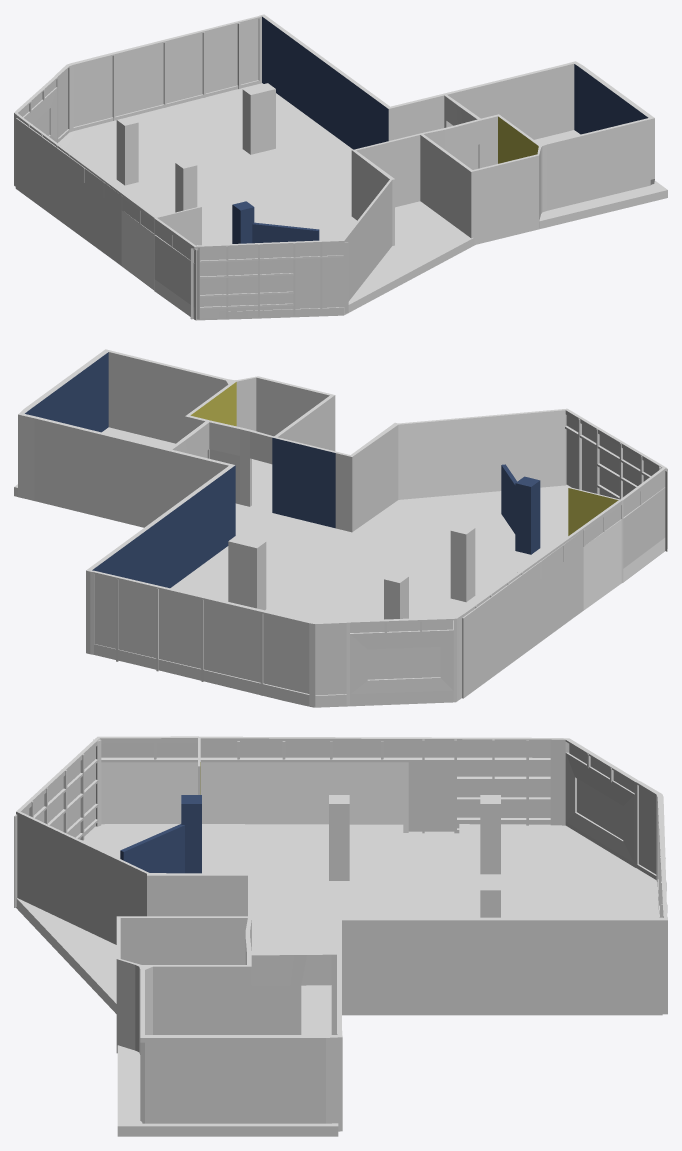
The model's file is Office.fbx.
The picture shows the model from 3 angles, top to bottom: view 1: azimuth 30°, elevation 25°; view 2: azimuth 150°, elevation 25°; view 3: azimuth 270°, elevation 25°; orthographic projection. The views are drawn at different scales.
Visible parts, largest first — view 1: OfficeWalls, Cube, FrontWindow, FrontWindow.003, FrontWindow.002, Pillar.002, Pillar.003, PrivacyWall, Pillar.000, Pillar.001, FrontWindow.001, Cube.001; view 2: OfficeWalls, Cube, FrontWindow, FrontWindow.002, FrontWindow.003, Cube.001, Pillar.002, FrontWindow.001, Pillar.001, Pillar.000, Pillar.003, PrivacyWall; view 3: OfficeWalls, Cube, FrontWindow.002, FrontWindow.003, Cube.001, PrivacyWall, Cube.003, Pillar.000, Pillar.003, Pillar.001, FrontWindow.001, Pillar.002.
Boxes of the visible parts, <box> form: OfficeWalls: <box>14,14,654,319</box>; Cube: <box>58,83,667,320</box>; FrontWindow: <box>73,19,258,126</box>; FrontWindow.003: <box>190,242,348,319</box>; FrontWindow.002: <box>15,118,196,320</box>; Pillar.002: <box>242,83,275,154</box>; Pillar.003: <box>116,116,138,185</box>; PrivacyWall: <box>252,222,319,243</box>; Pillar.000: <box>175,159,197,212</box>; Pillar.001: <box>232,201,254,243</box>; FrontWindow.001: <box>58,69,68,137</box>; Cube.001: <box>18,80,56,135</box>; OfficeWalls: <box>18,349,666,706</box>; Cube: <box>14,427,571,707</box>; FrontWindow: <box>94,574,309,693</box>; FrontWindow.002: <box>462,468,667,698</box>; FrontWindow.003: <box>566,415,667,551</box>; Cube.001: <box>350,620,452,679</box>; Pillar.002: <box>228,534,266,610</box>; FrontWindow.001: <box>316,624,346,695</box>; Pillar.001: <box>515,476,540,554</box>; Pillar.000: <box>450,524,475,602</box>; Pillar.003: <box>384,572,408,619</box>; PrivacyWall: <box>501,464,517,533</box>; OfficeWalls: <box>16,736,667,1131</box>; Cube: <box>16,824,662,1136</box>; FrontWindow.002: <box>101,742,550,831</box>; FrontWindow.003: <box>14,747,95,907</box>; Cube.001: <box>569,744,634,839</box>; PrivacyWall: <box>120,824,184,873</box>; Cube.003: <box>251,985,289,1034</box>; Pillar.000: <box>329,795,349,880</box>; Pillar.003: <box>480,795,500,874</box>; Pillar.001: <box>181,795,201,873</box>; FrontWindow.001: <box>639,786,656,874</box>; Pillar.002: <box>480,874,500,917</box>.
Size of the model in its own units: 3814 by 561 by 3456.
